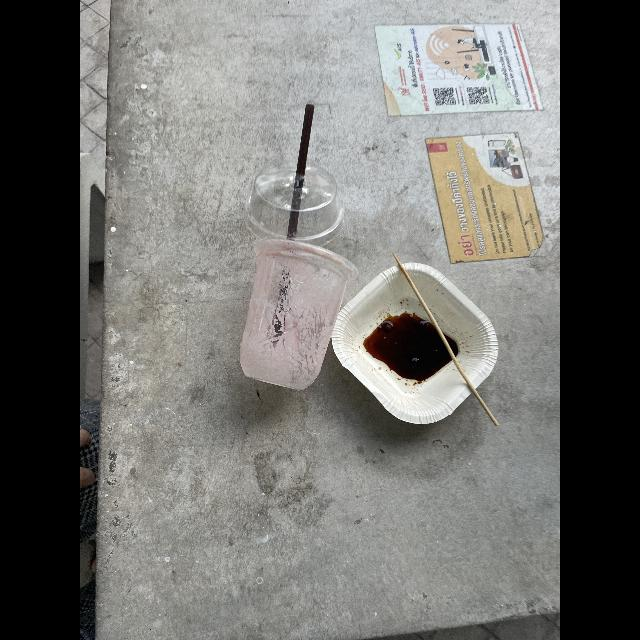cardboard_bowl: (329, 256, 501, 442)
plastic_cup: (235, 236, 351, 398)
plastic_cup_lid: (236, 152, 346, 242)
stick: (377, 246, 532, 464)
straw: (278, 94, 323, 256)
